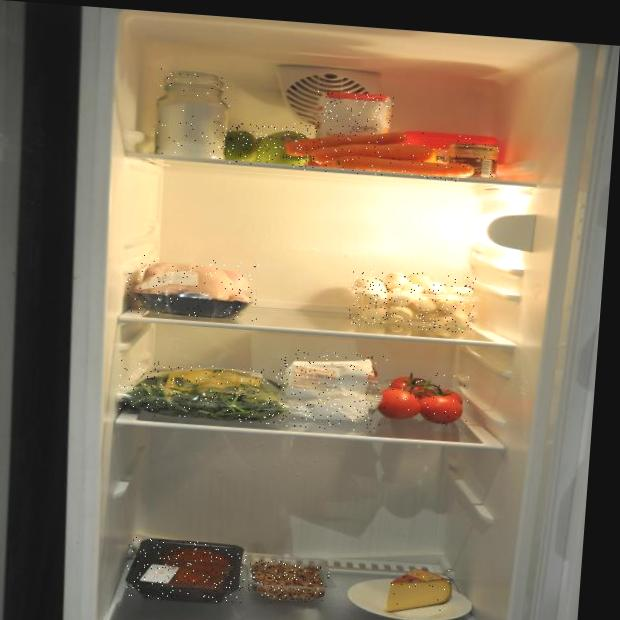apple: (211, 121, 318, 169)
beef: (124, 537, 247, 606)
carrot: (282, 122, 479, 183)
cheese: (384, 565, 457, 618)
chicken: (123, 254, 261, 322)
corn: (446, 142, 500, 180)
flour: (276, 349, 389, 433)
mushrooms: (347, 267, 479, 334)
shrimp: (246, 560, 330, 603)
spinach: (116, 359, 293, 426)
sugar: (153, 68, 235, 162), (313, 90, 395, 173)
tomato: (372, 369, 470, 428)
